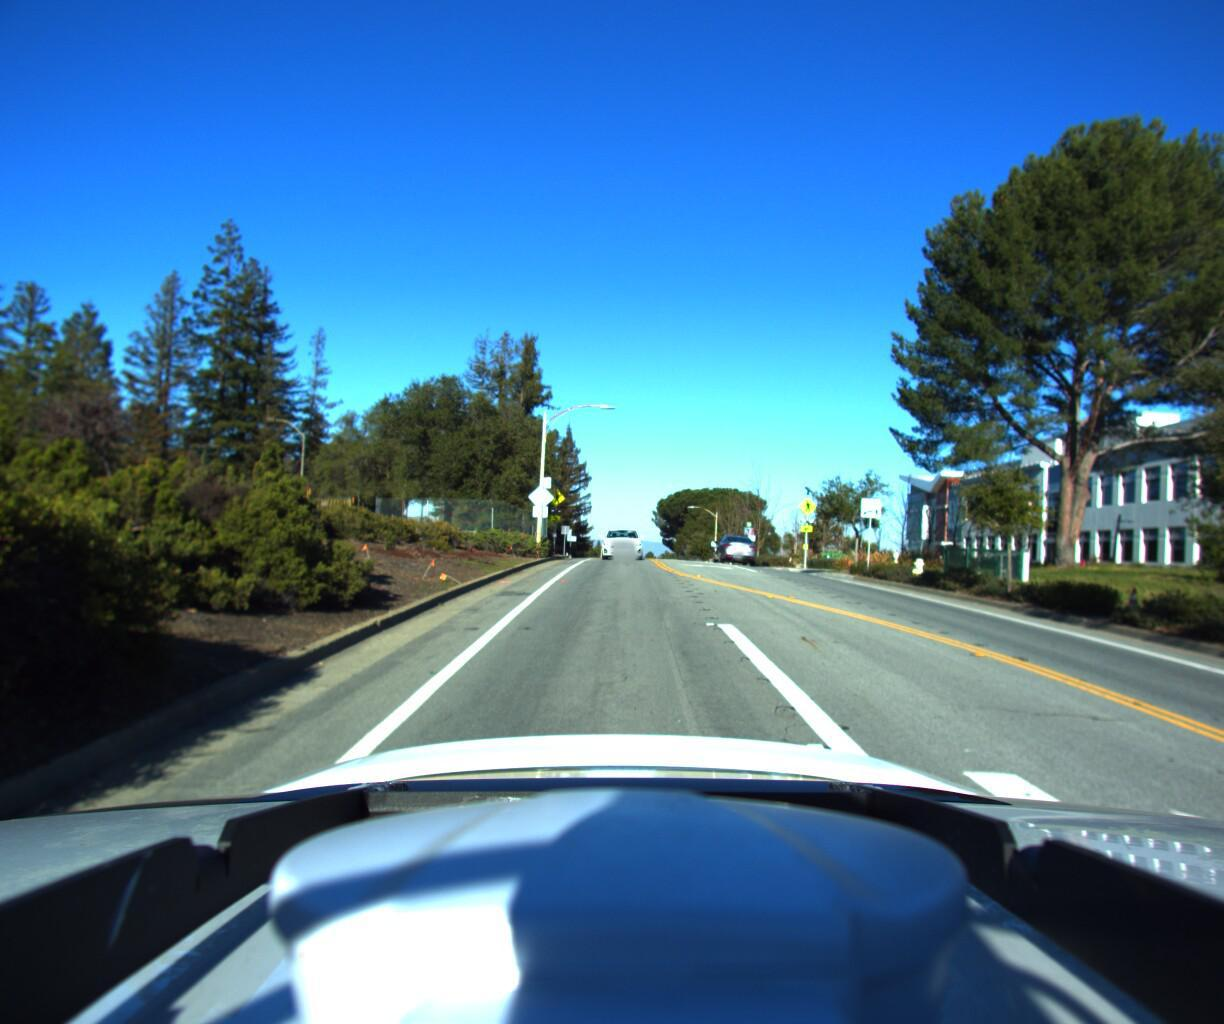car: (600, 518, 648, 561), (706, 529, 757, 563)
